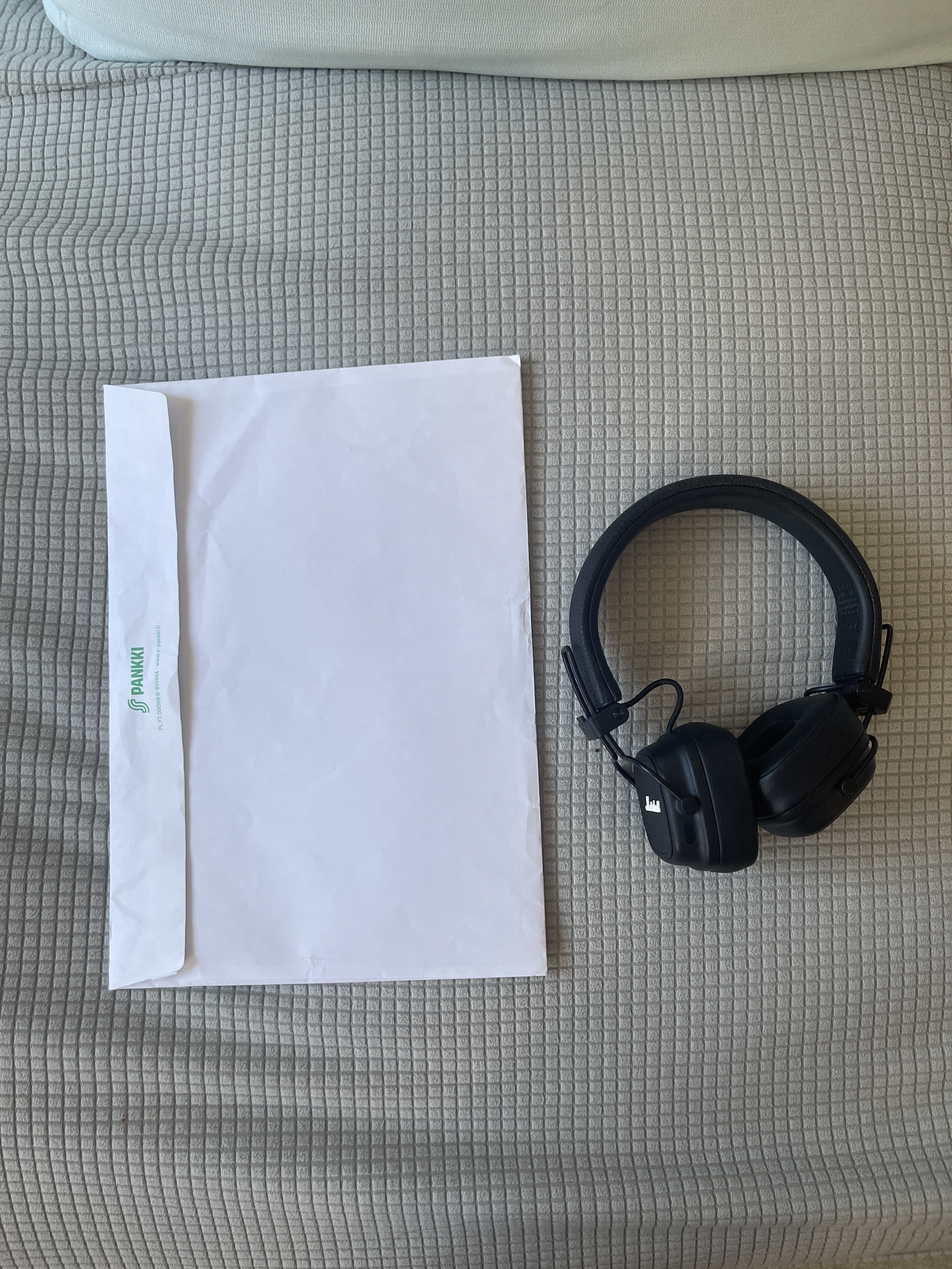paper: (94, 354, 554, 1006)
